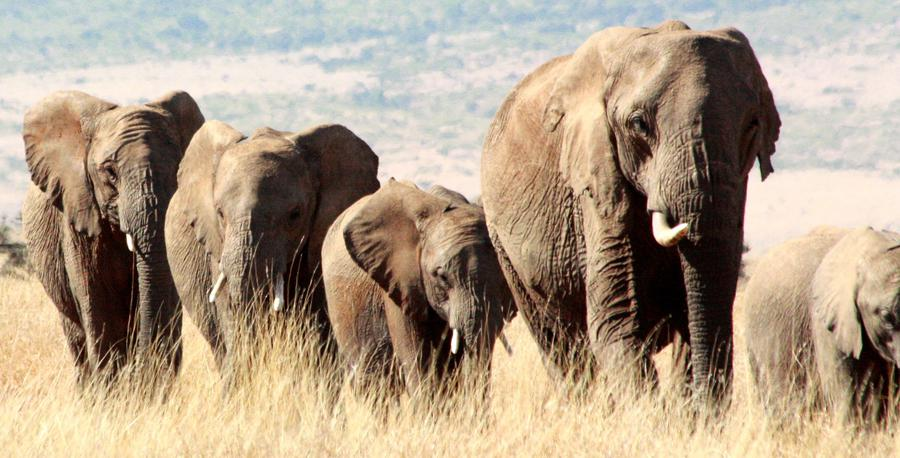elephant: (574, 26, 790, 281), (46, 97, 183, 266), (359, 192, 506, 347), (201, 137, 322, 292)
